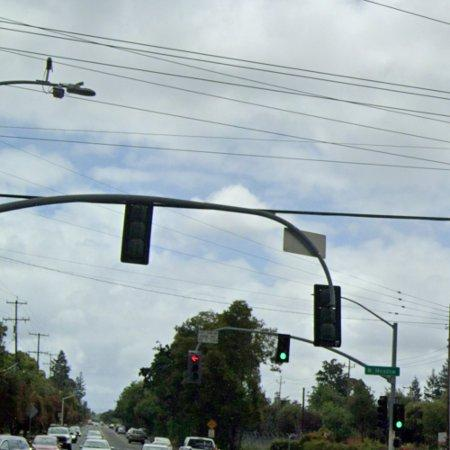traffic lights: (120, 200, 157, 266), (315, 281, 341, 350), (276, 332, 290, 363)
